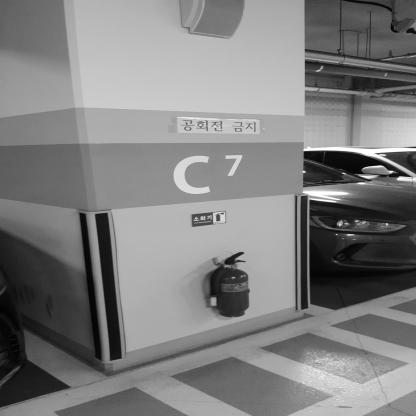FE: (209, 252, 250, 317)
